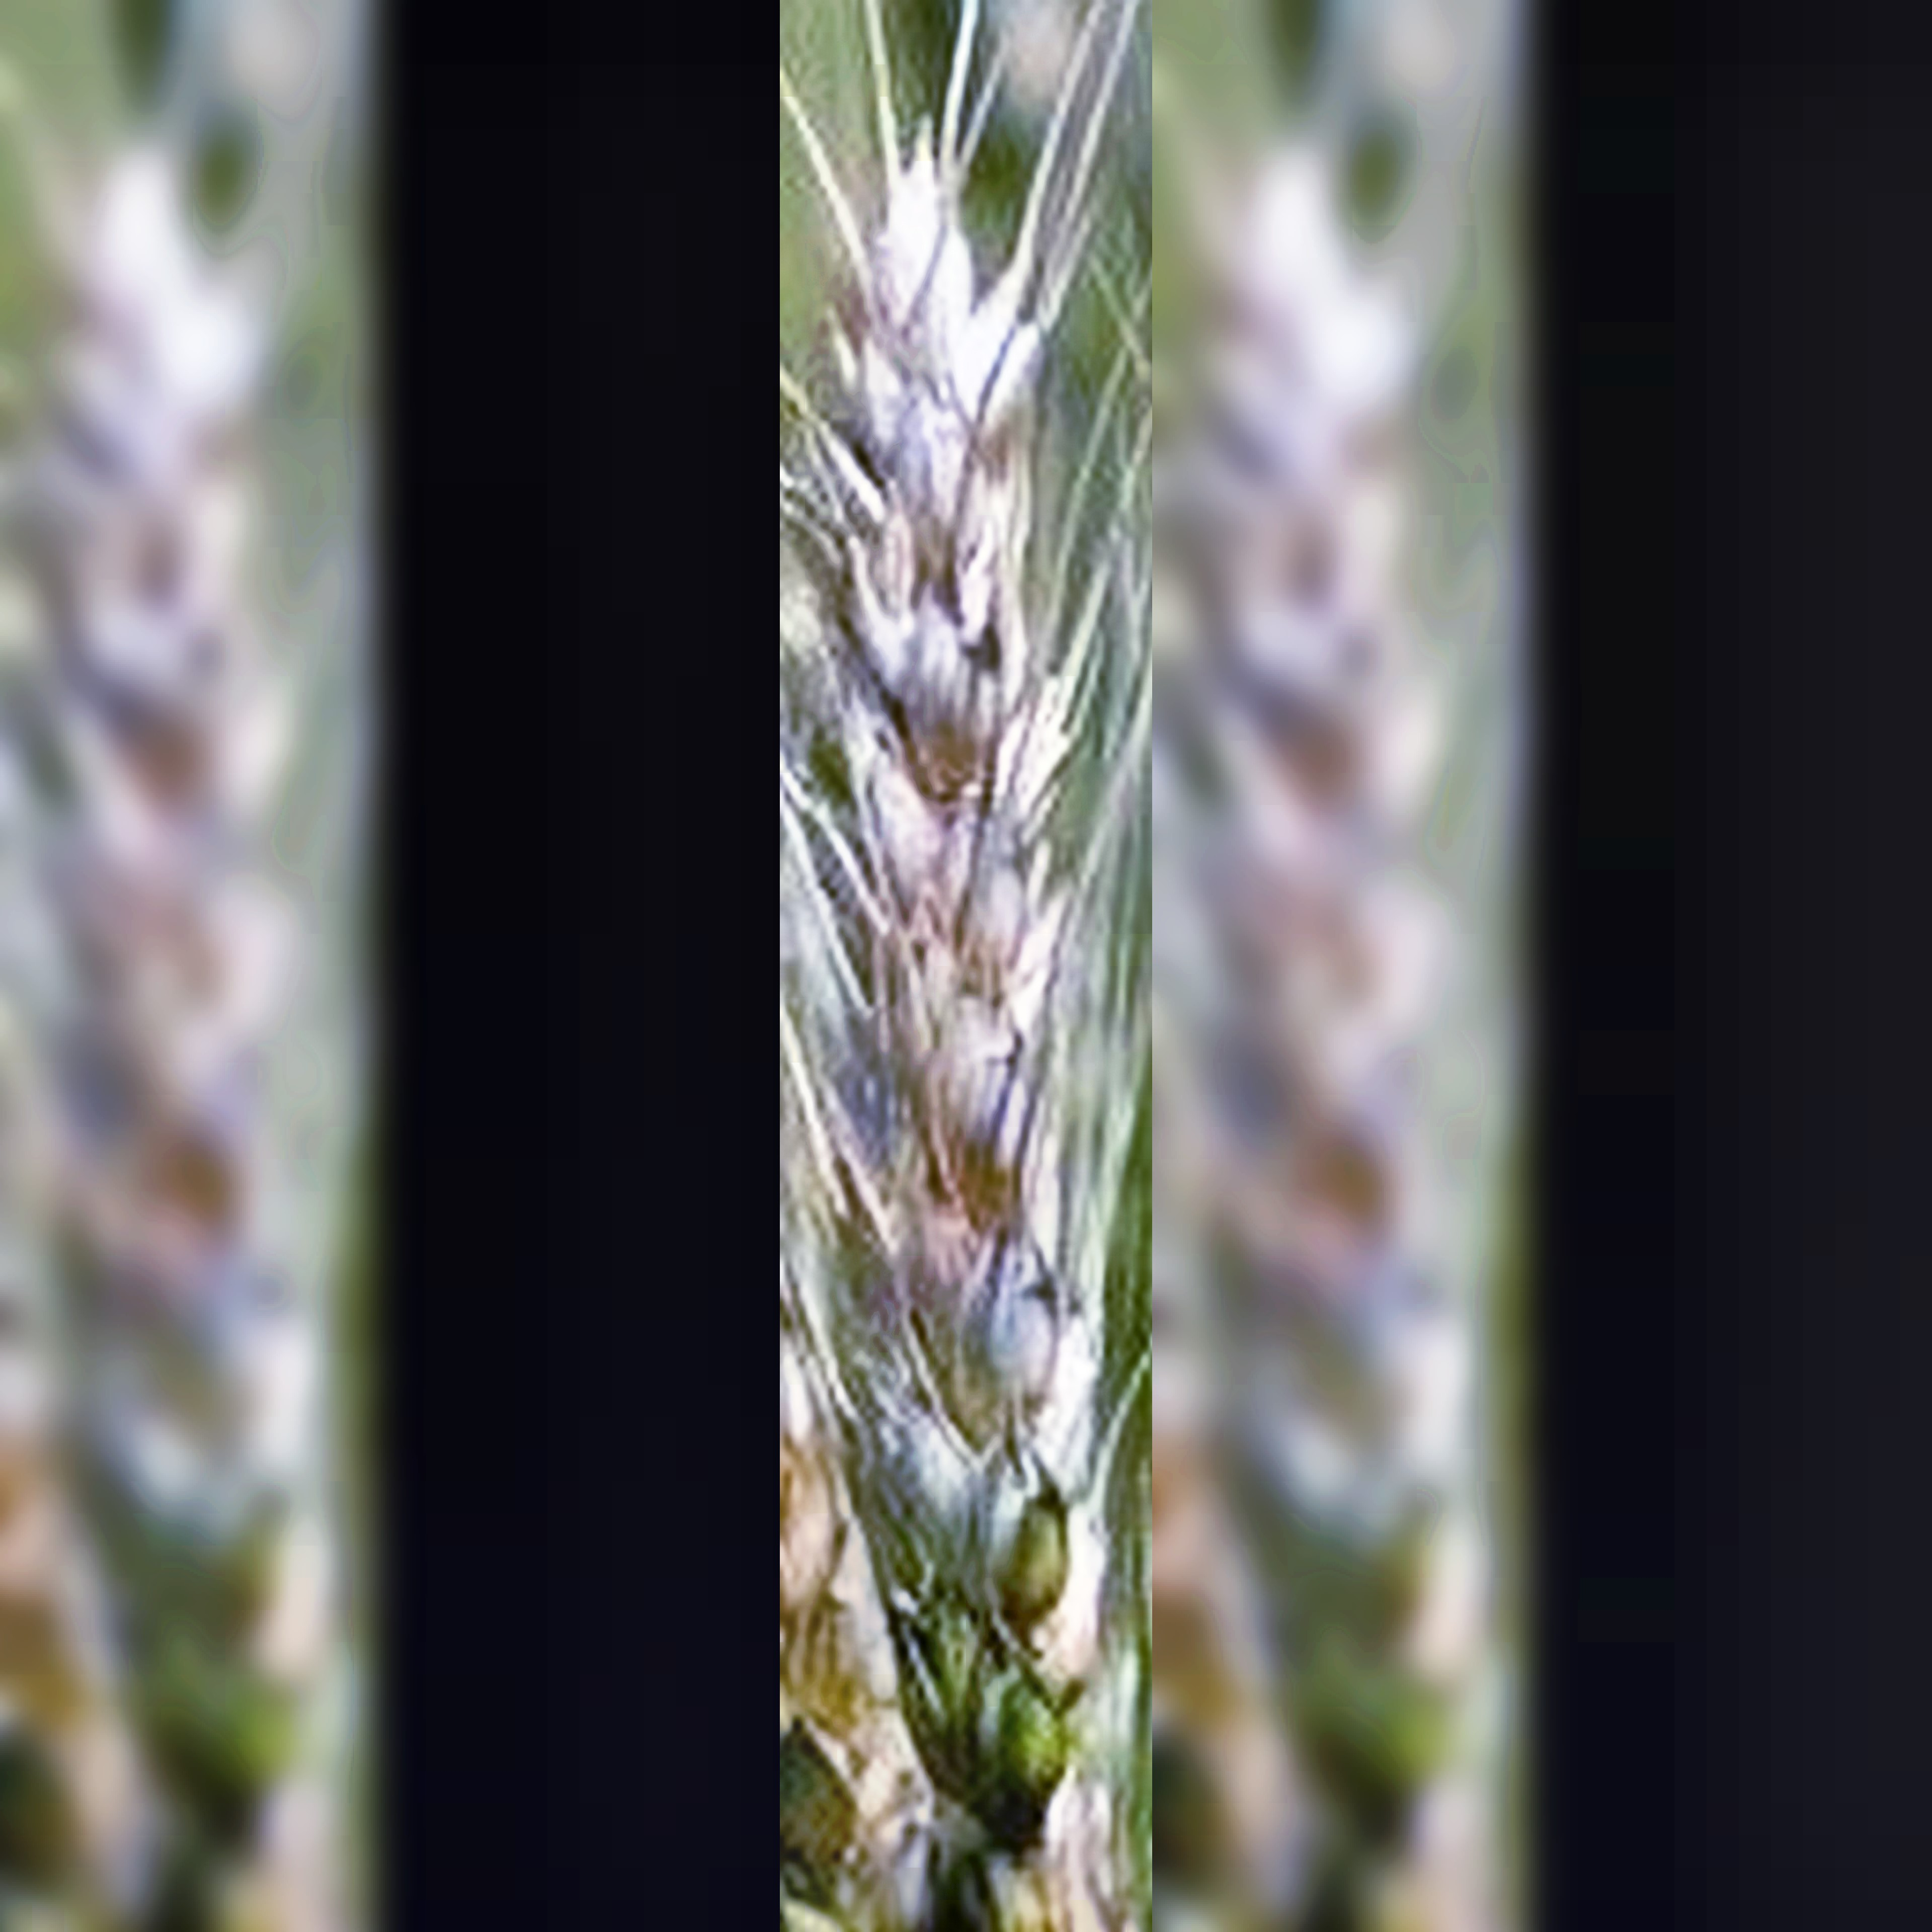Wheat scab: (777, 140, 1134, 1787)
